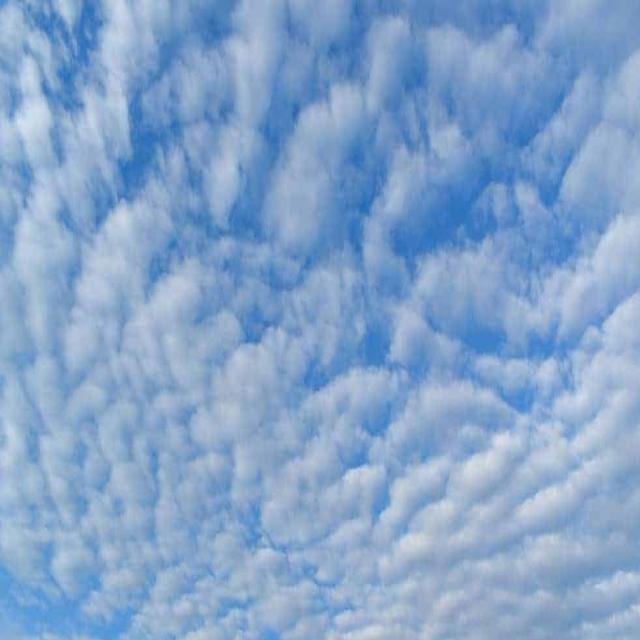altocumulus: (44, 30, 616, 622)
